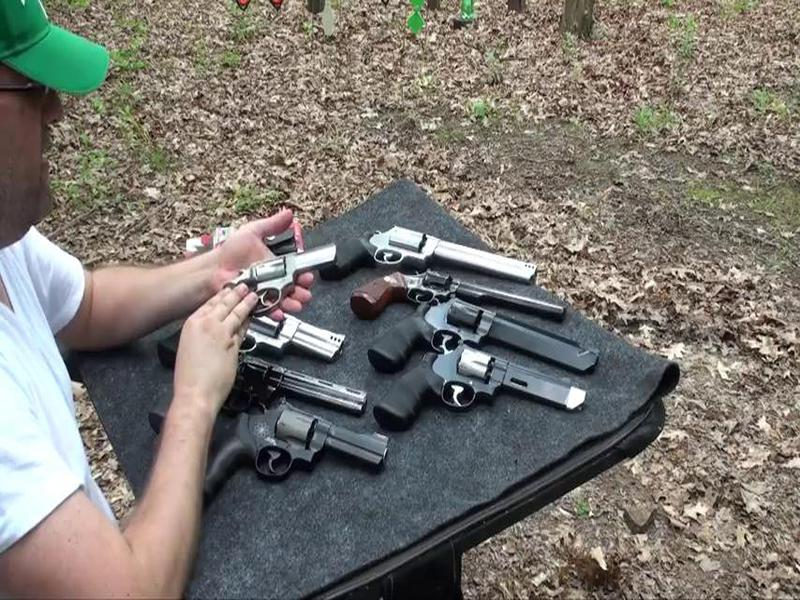Revolver: (357, 299, 602, 367)
